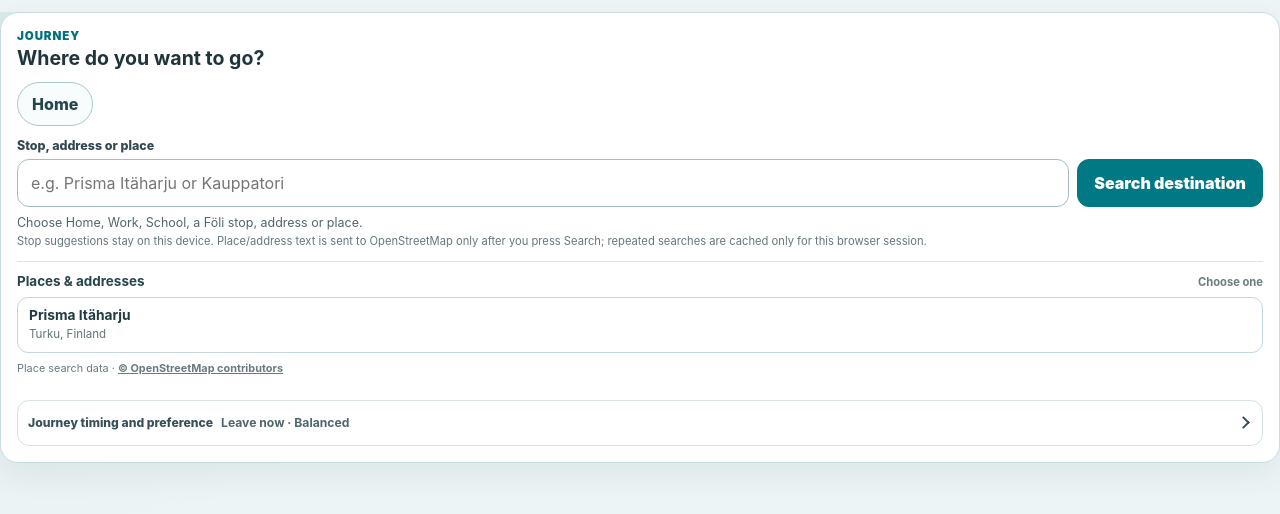
Test: shows a truthful error when a place cannot map to nearby Föli stops
The width and height of the screenshot is (1280, 514).
Click the button "Prisma Itäharju Turku, Finland": click(80, 315) [17,297,1263,353]
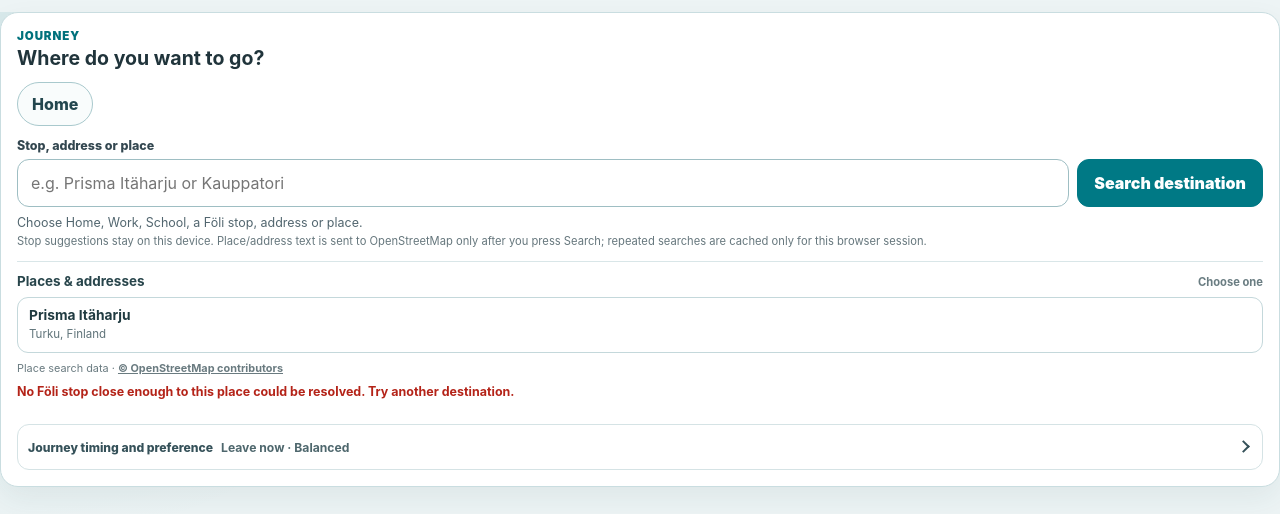
Expected: the message shows "No Föli stop close enough to this place could be resolved.", [17,384,514,398]
